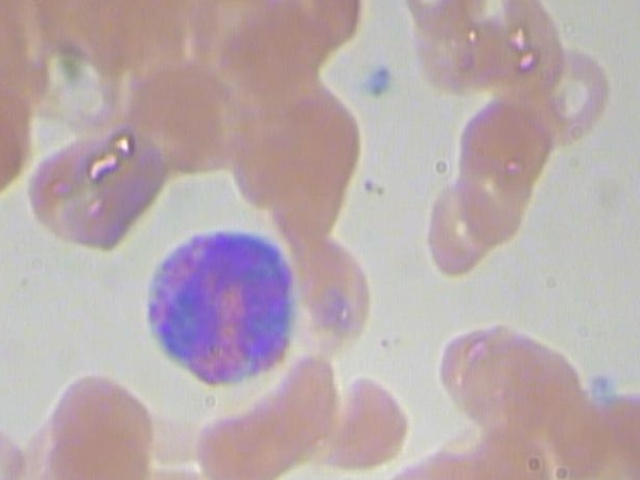Platelets: (362, 62, 398, 107)
RBC: (34, 366, 163, 480), (288, 225, 381, 347), (515, 42, 615, 147), (318, 367, 412, 476), (411, 174, 505, 283)
WBC: (135, 223, 305, 393)
